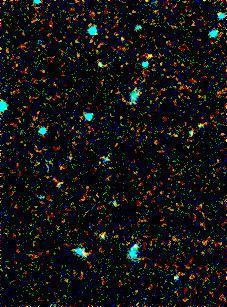star: (134, 40, 164, 70)
